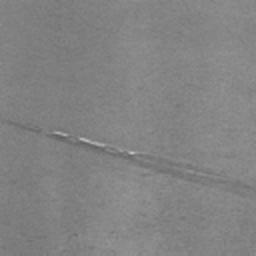Finishing roll printing: (100, 150, 256, 202), (4, 120, 42, 134), (78, 136, 110, 148), (50, 131, 72, 140)
